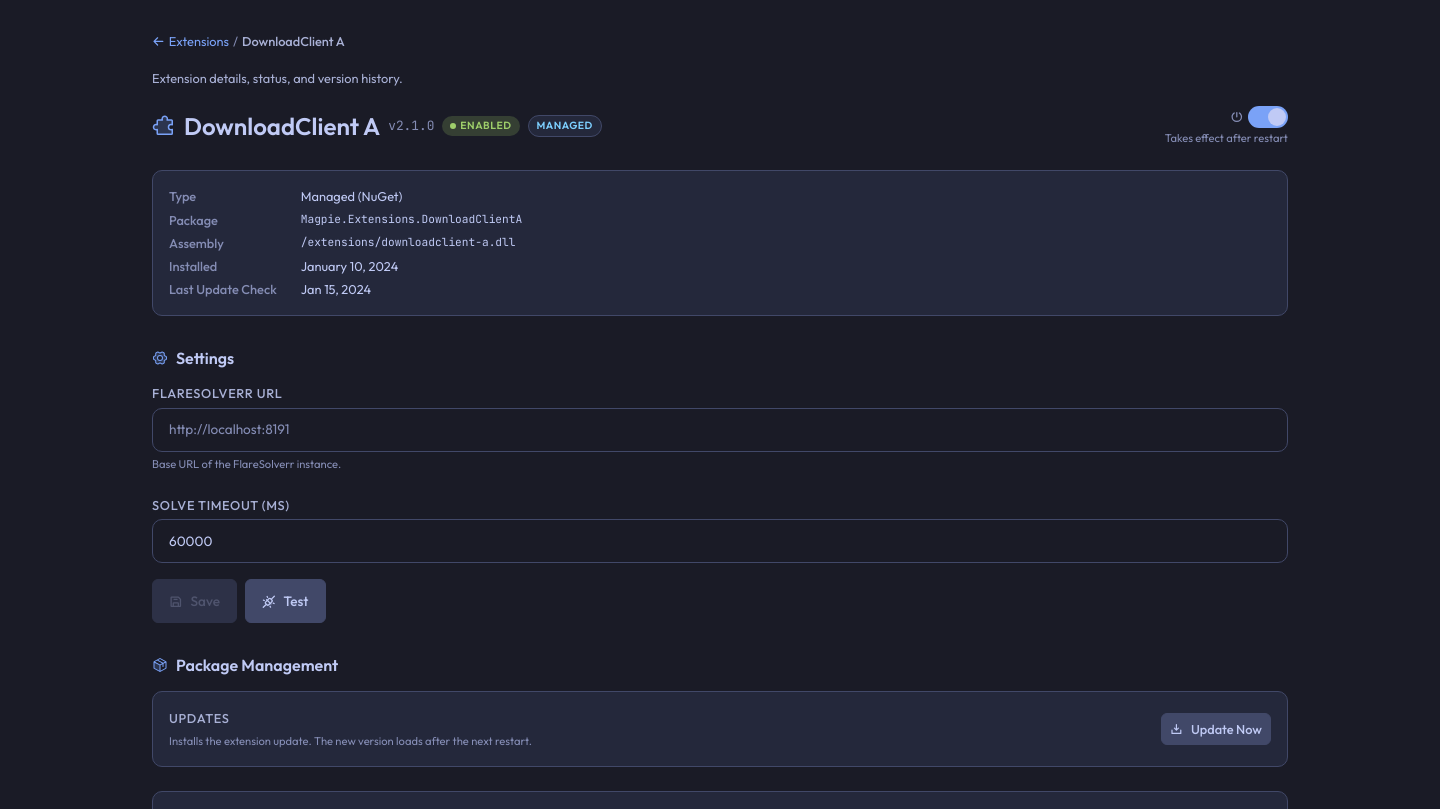
ExtensionDetailPage extension settings UI › runs the connection test via the test endpoint and surfaces the result
Check: the heading "Settings" is shown, box [152,348,234,368]
Check: the field labelled "FlareSolverr URL" is shown, box [153,411,1287,448]
Click the button "Test" at (285, 602), box [245,580,326,624]
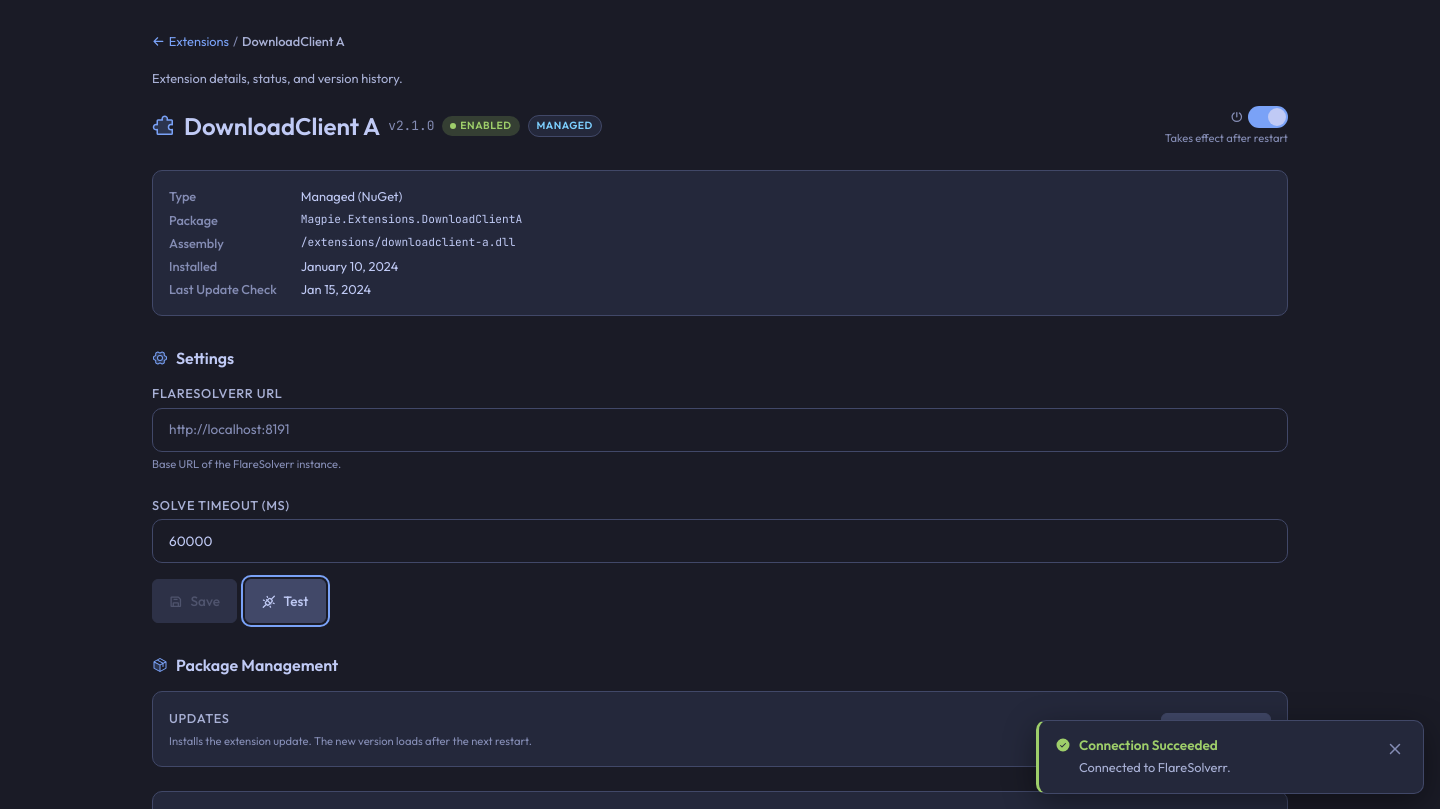
Check: the text "Connection Succeeded" is shown, box [1079,737,1231,754]
